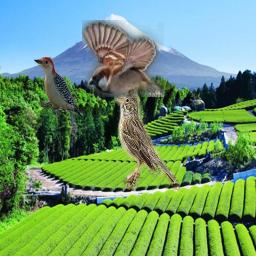Sparrow: (114, 89, 180, 190), (82, 20, 164, 97)
Woodpecker: (33, 57, 83, 117)
